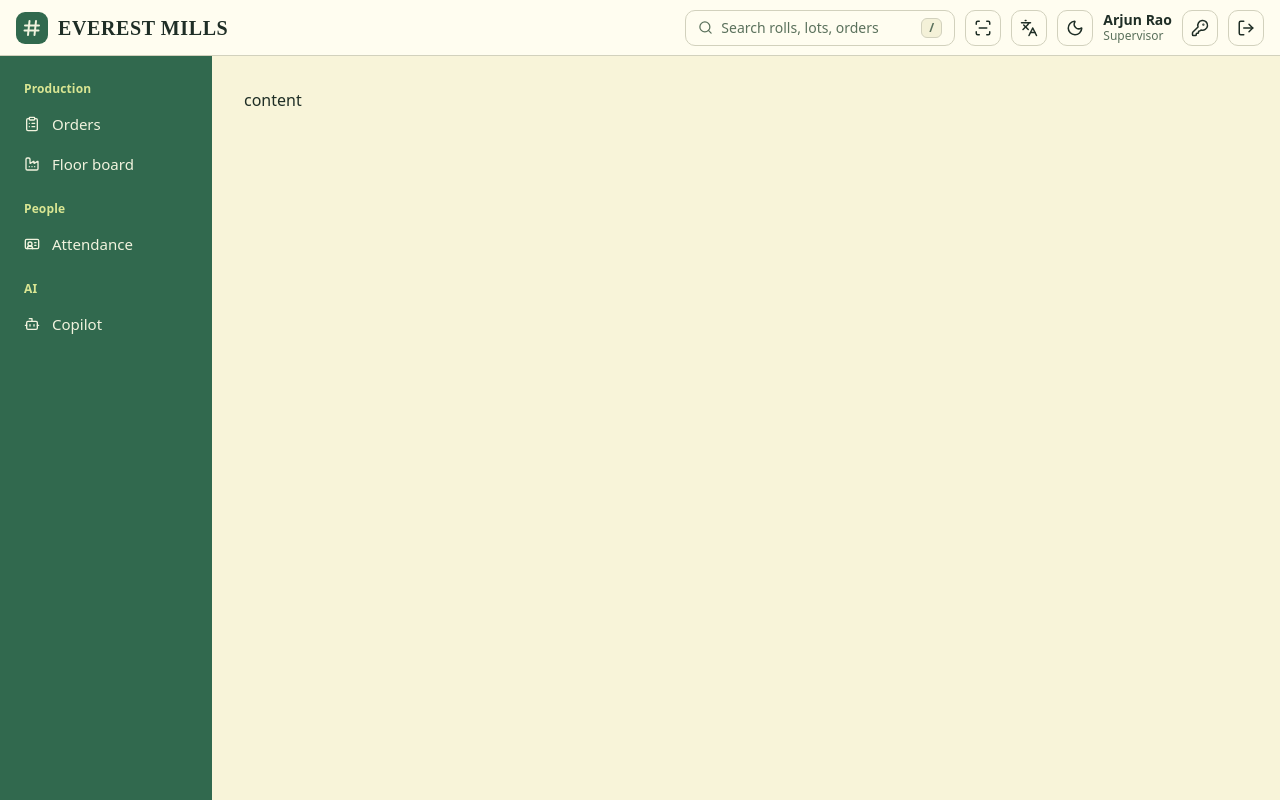
Test case: AppShell › opens the change-password dialog from the header
Step 1. Click the button named "Change password" → x=1200, y=28, box [1182,10,1218,46]
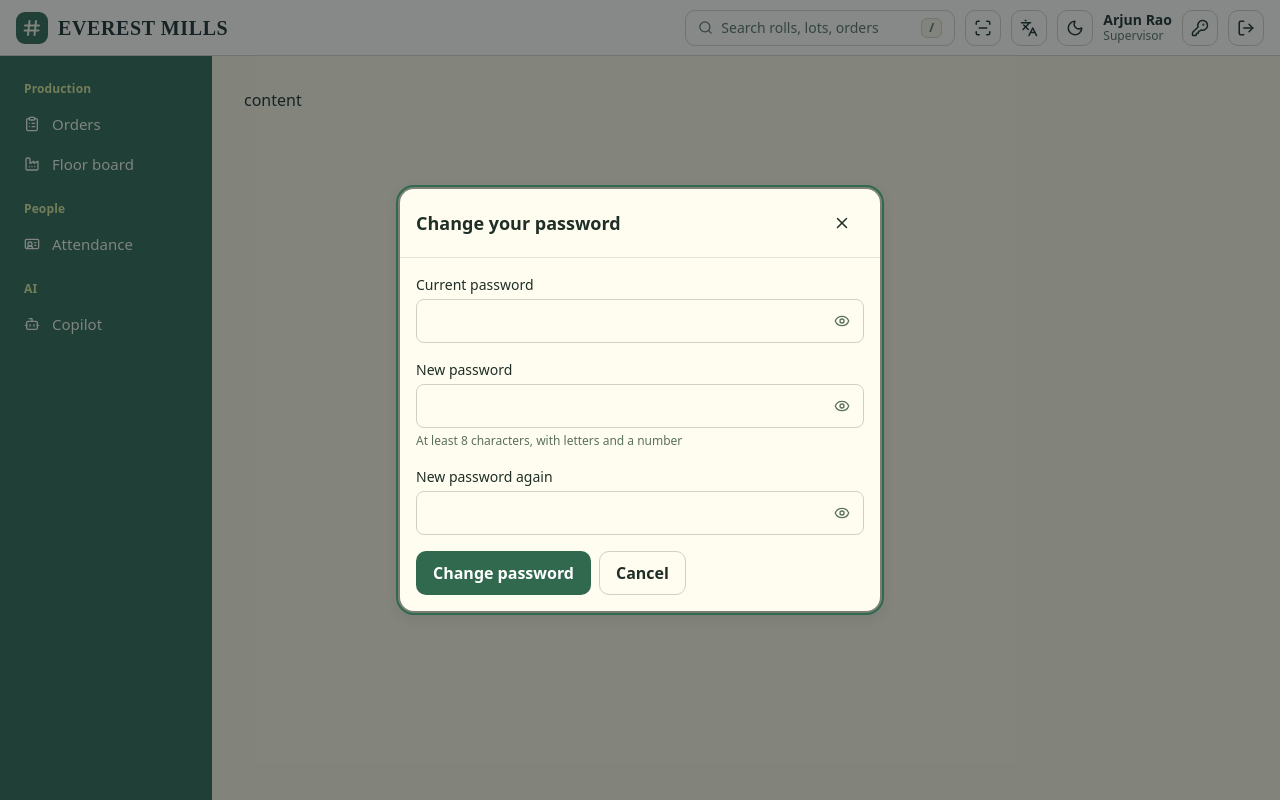
Now the dialog "Change your password" is shown, box [400,189,880,611]
